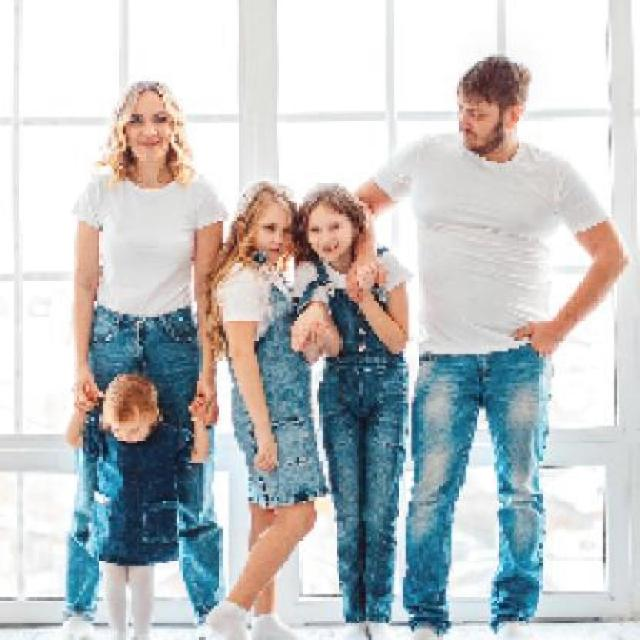child: (62, 372, 218, 638)
